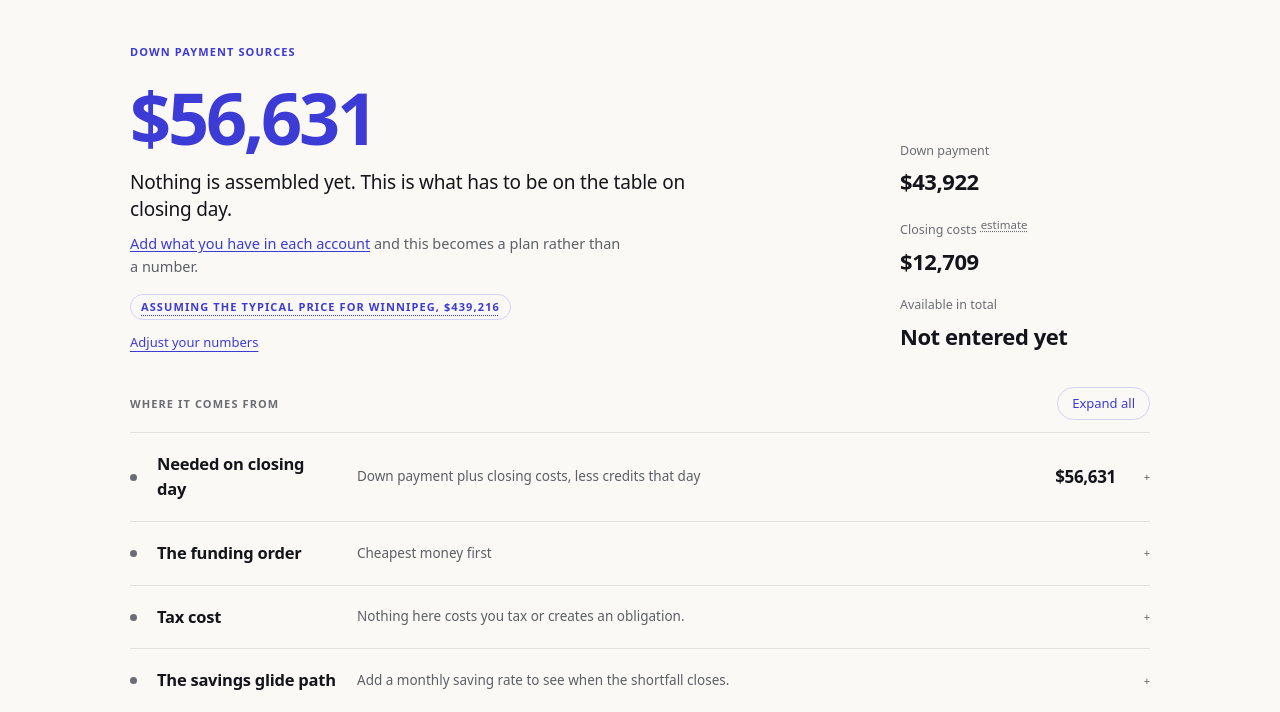
Test: Down payment — the waterfall › says what a source costs beyond the money
Click the button "The funding order Cheapest money first +".
click(229, 552)  # box [130,522,1150,585]
(page scrolled)
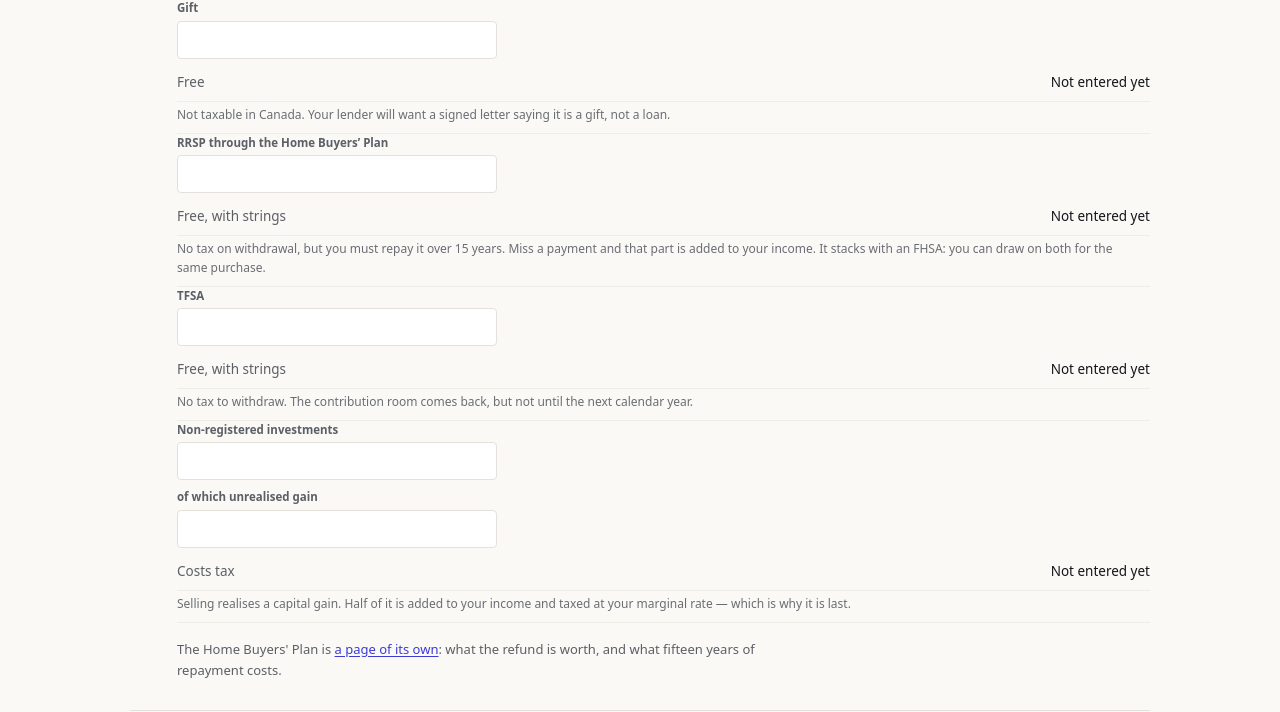
Result: the text "must repay it over 15 years" is shown at [177,240,1112,276]
Result: the text "contribution room comes back" is shown at [177,394,693,410]
